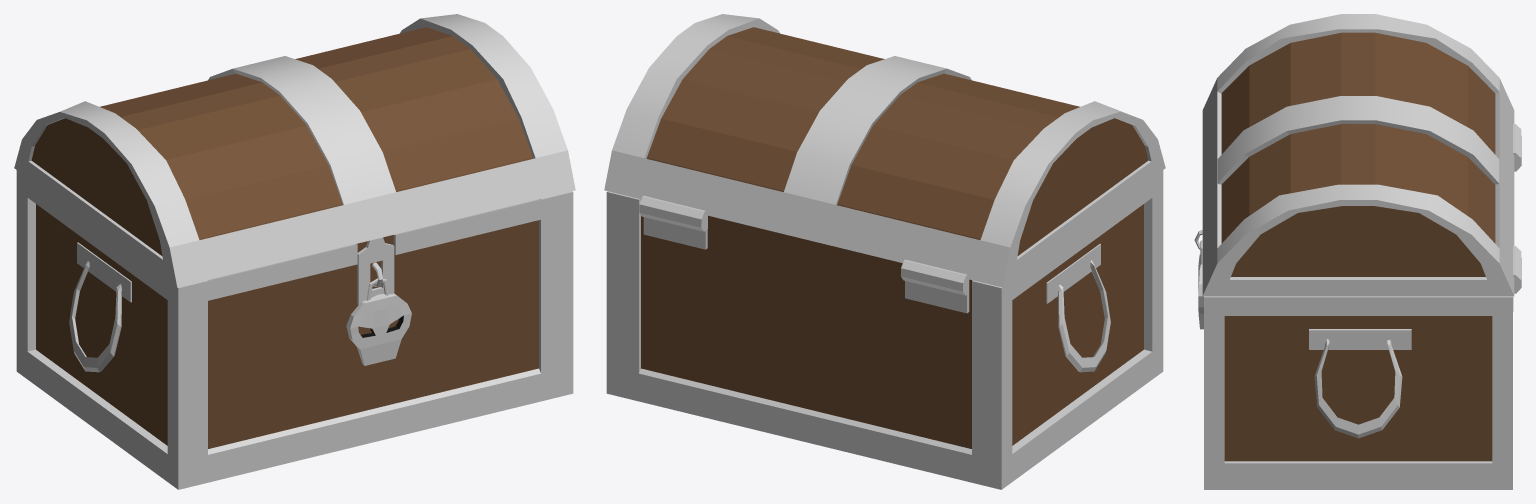
The model's file is Chest.fbx.
3 renders of one model, left to right at view 1: azimuth 30°, elevation 25°; view 2: azimuth 150°, elevation 25°; view 3: azimuth 270°, elevation 25°, orthographic. The views are drawn at different scales.
Visible parts, largest first — view 1: Chest; view 2: Chest; view 3: Chest.
Part boxes in pixels (<box>): Chest: <box>14,14,575,489</box>; Chest: <box>604,14,1165,489</box>; Chest: <box>1194,14,1521,489</box>.
Bounding box in the file's own units: 95.55 × 65.05 × 66.27.
